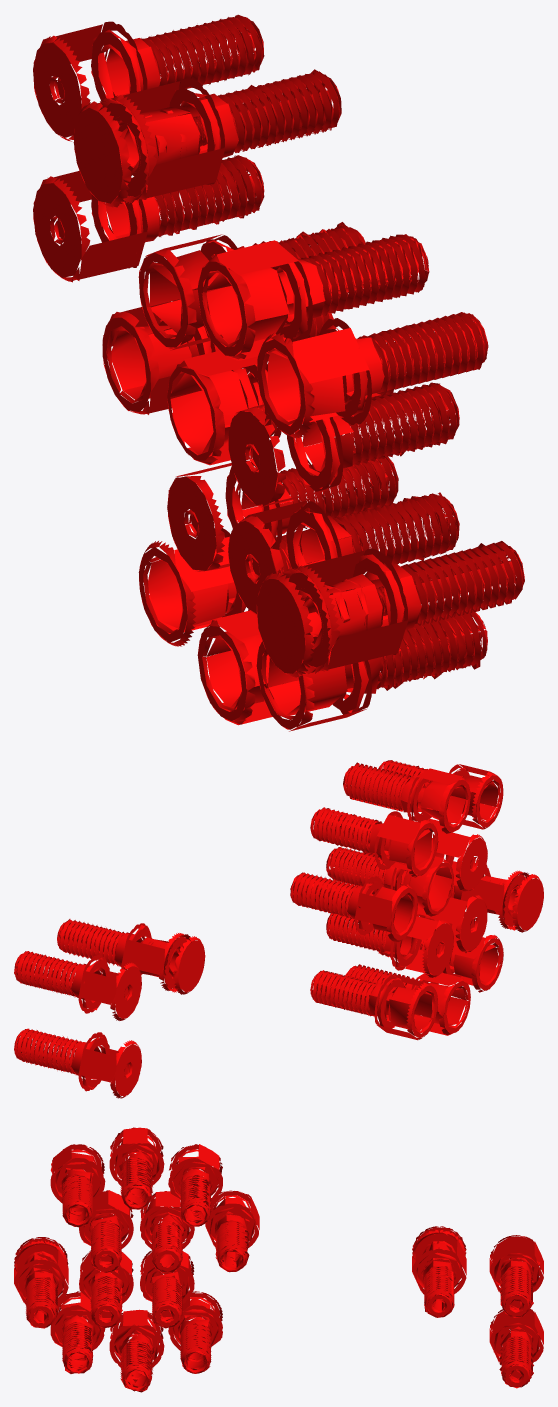
The model's file is bluerov2_material_5.obj.
3 renders of one model, top to bottom at view 1: azimuth 30°, elevation 25°; view 2: azimuth 150°, elevation 25°; view 3: azimuth 270°, elevation 25°, orthographic. The views are drawn at different scales.
Parts seen in each view (by area): view 1: bluerov2_material_5; view 2: bluerov2_material_5; view 3: bluerov2_material_5.
Part boxes in pixels (x1,y1,x2,y2): bluerov2_material_5: (33, 14, 524, 731); bluerov2_material_5: (14, 760, 543, 1098); bluerov2_material_5: (14, 1127, 543, 1392).
Bounding box in the file's own units: 0.0851 × 0.0828 × 0.1741.
